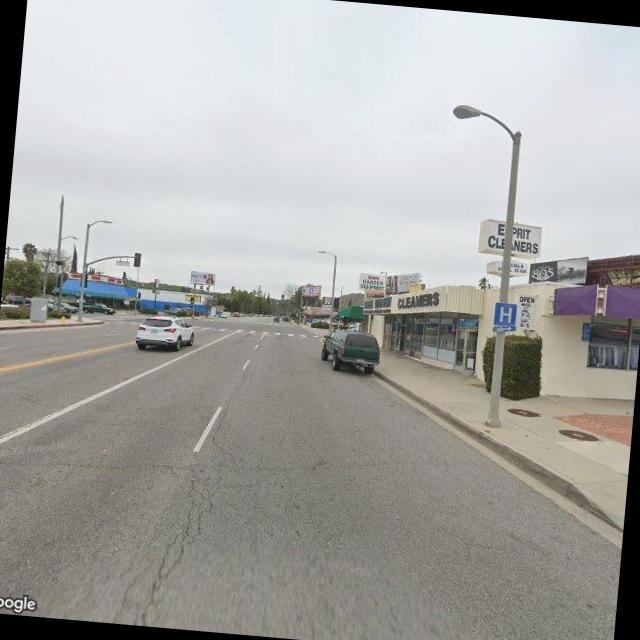crack: (145, 357, 246, 614), (0, 430, 326, 500)
